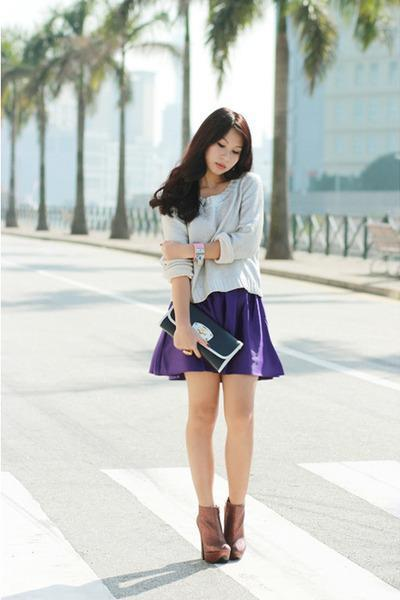bag: (161, 300, 243, 371)
shirt: (157, 180, 271, 302)
shoe: (196, 498, 243, 563)
skirt: (149, 288, 283, 381)
